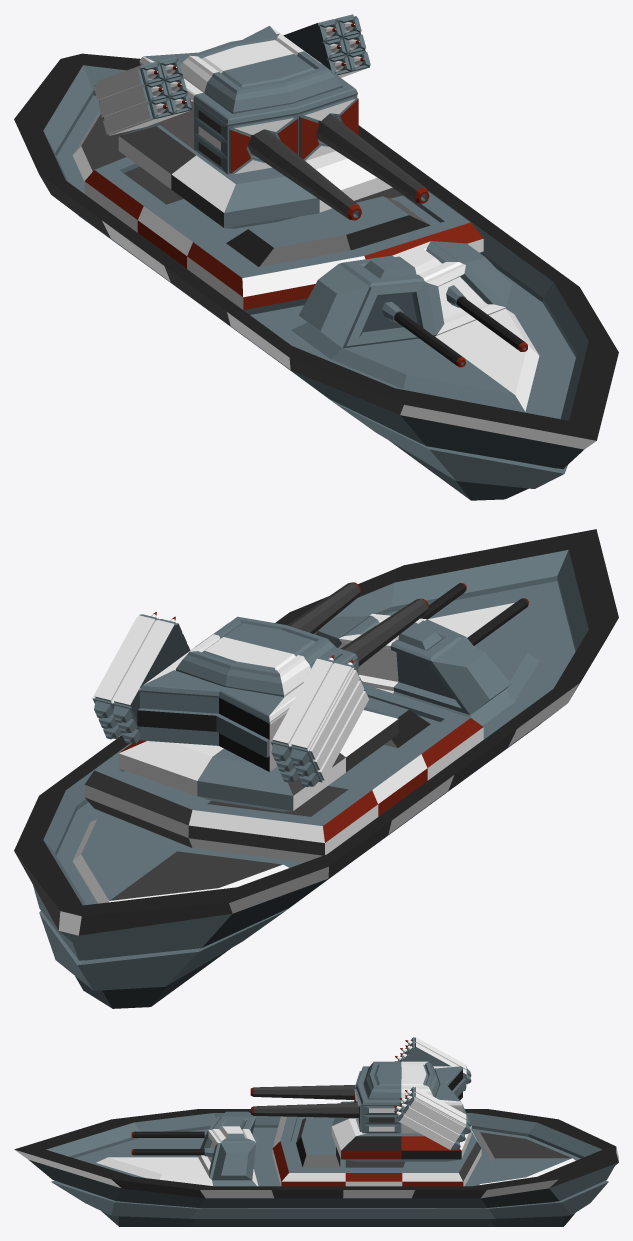
3 renders of one model, top to bottom at view 1: azimuth 30°, elevation 25°; view 2: azimuth 150°, elevation 25°; view 3: azimuth 270°, elevation 25°, orthographic. The views are drawn at different scales.
Visible parts, largest first — view 1: Cube, Cube.002, Cube.001, Cube.024, Cube.004, Cube.003, Cube.023, Cube.021, Cube.022; view 2: Cube, Cube.002, Cube.001, Cube.024, Cube.023, Cube.004, Cube.003, Cube.022; view 3: Cube, Cube.002, Cube.001, Cube.023, Cube.003, Cube.004, Cube.024, Cube.021, Cube.022.
Boxes of the visible parts, <box> form: Cube: <box>14,53,618,500</box>; Cube.002: <box>139,25,358,174</box>; Cube.001: <box>118,123,392,228</box>; Cube.024: <box>94,57,191,135</box>; Cube.004: <box>248,129,361,220</box>; Cube.003: <box>316,114,429,203</box>; Cube.023: <box>283,14,370,77</box>; Cube.021: <box>456,296,527,351</box>; Cube.022: <box>394,312,465,367</box>; Cube: <box>14,529,618,1008</box>; Cube.002: <box>137,616,358,771</box>; Cube.001: <box>118,707,398,811</box>; Cube.024: <box>271,657,368,787</box>; Cube.023: <box>92,614,190,743</box>; Cube.004: <box>340,598,428,666</box>; Cube.003: <box>287,582,360,633</box>; Cube.022: <box>467,598,528,645</box>; Cube: <box>14,1109,618,1226</box>; Cube.002: <box>354,1061,466,1133</box>; Cube.001: <box>331,1101,471,1161</box>; Cube.023: <box>397,1087,470,1150</box>; Cube.003: <box>251,1103,360,1117</box>; Cube.004: <box>250,1085,356,1099</box>; Cube.024: <box>397,1037,471,1091</box>; Cube.021: <box>131,1149,204,1155</box>; Cube.022: <box>131,1131,204,1137</box>.
Size of the model in its own units: 5.63 by 5.02 by 17.73.
Materials: 1 (1 with a texture image).
